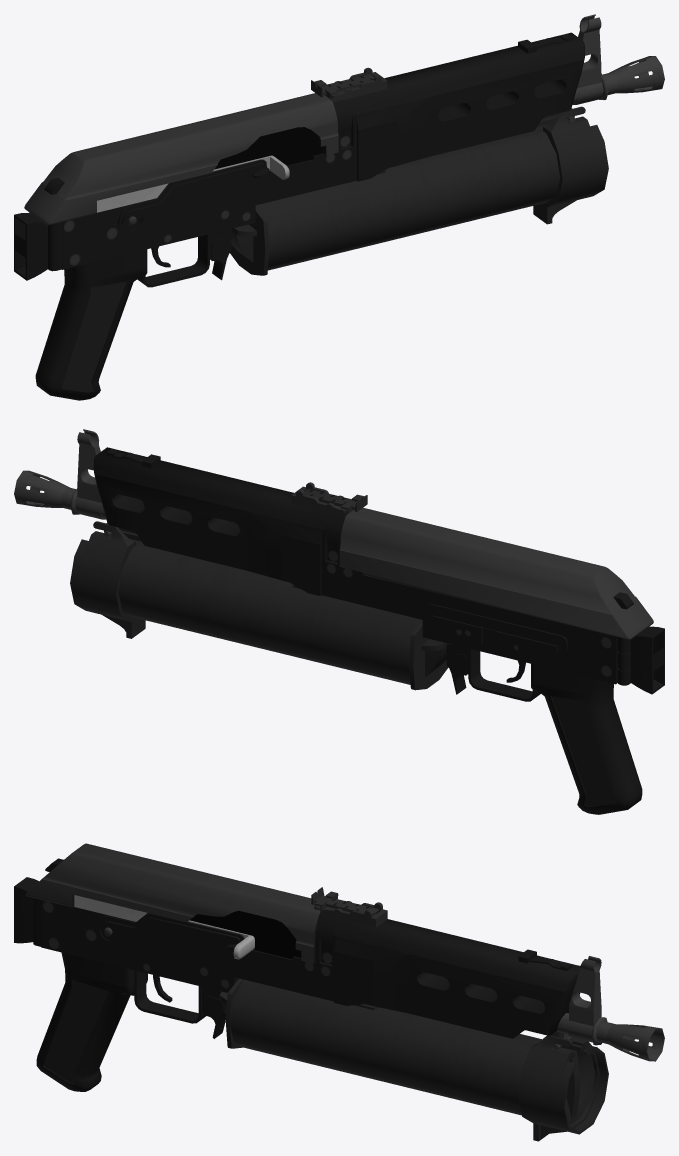
3 views of the same model, one above another, from view 1: azimuth 30°, elevation 25°; view 2: azimuth 150°, elevation 25°; view 3: azimuth 330°, elevation 25° (orthographic).
Visible parts, largest first — view 1: stock, mag, bolt, sights, ammo tab; view 2: stock, mag, sights, ammo tab; view 3: stock, mag, bolt, sights, ammo tab.
Boxes of the visible parts, x1,y1,x2,y2 form: stock: (14, 14, 664, 400); mag: (230, 106, 608, 275); bolt: (97, 155, 289, 212); sights: (311, 74, 374, 99); ammo tab: (211, 238, 231, 280); stock: (14, 429, 664, 814); mag: (70, 521, 448, 690); sights: (304, 488, 367, 513); ammo tab: (446, 652, 467, 694); stock: (14, 843, 664, 1091); mag: (219, 978, 608, 1141); bolt: (74, 895, 254, 959); sights: (311, 887, 378, 915); ammo tab: (204, 995, 226, 1038).
Size of the model in its own units: 39.9 by 15.3 by 5.3.
